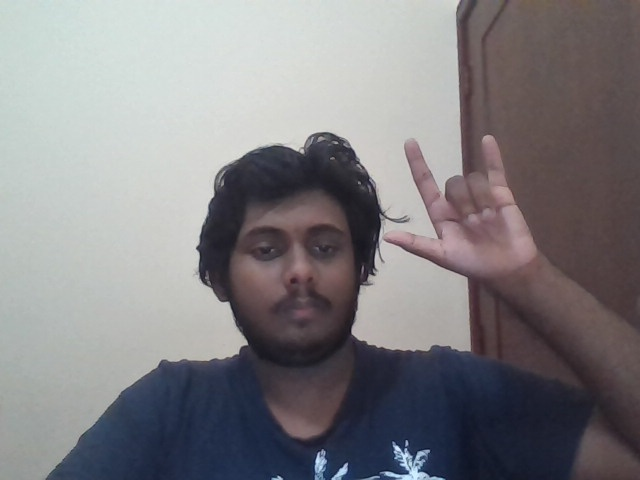iloveyou: (383, 134, 537, 285)
